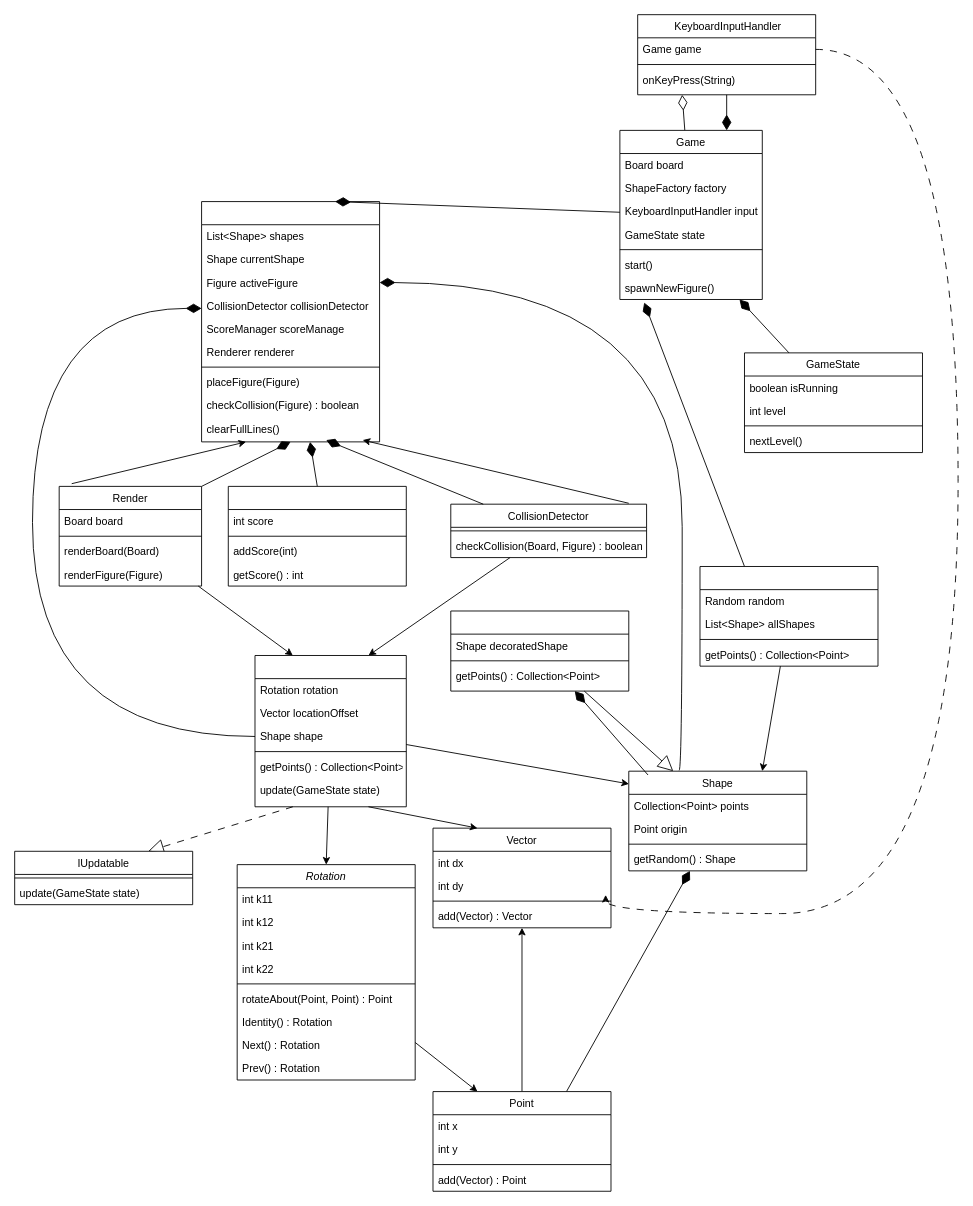
Some shapes in this 973 by 1206 pixel diagram are drawn without their labels. Each missing label, with the box of its shape:
AbstractShapeDecorator: (450, 610, 629, 691)
Board: (201, 201, 380, 442)
Figure: (254, 655, 406, 807)
ScoreManager: (227, 485, 406, 586)
ShapeFactory: (699, 566, 878, 666)
